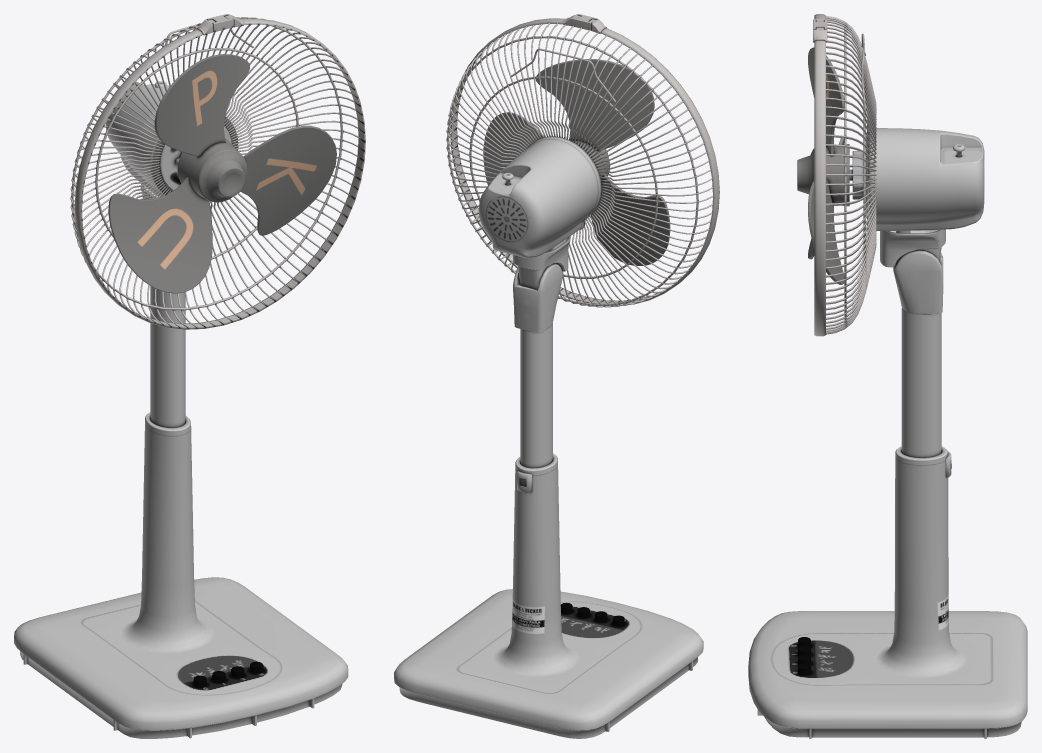
File: fan(1).obj
3 renders of one model, left to right at view 1: azimuth 30°, elevation 25°; view 2: azimuth 150°, elevation 25°; view 3: azimuth 270°, elevation 25°, orthographic. The views are drawn at different scales.
Visible parts, largest first — view 1: eletric_fan_Plane.000, eletric_fan.001_Plane.001; view 2: eletric_fan_Plane.000, eletric_fan.001_Plane.001; view 3: eletric_fan_Plane.000, eletric_fan.001_Plane.001.
Boxes of the visible parts, x1,y1,x2,y2 form: eletric_fan_Plane.000: (14, 14, 365, 738); eletric_fan.001_Plane.001: (108, 54, 336, 293); eletric_fan_Plane.000: (394, 14, 719, 738); eletric_fan.001_Plane.001: (483, 59, 670, 265); eletric_fan_Plane.000: (748, 14, 1027, 738); eletric_fan.001_Plane.001: (797, 47, 852, 284).
Size of the model in its own units: 0.382 by 0.8643 by 0.3308.
1 material, 1 textured.
